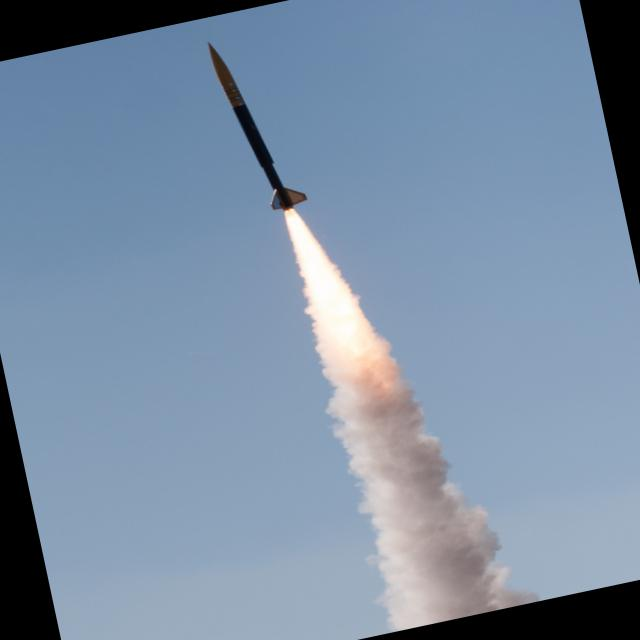rocket: (191, 13, 368, 417)
